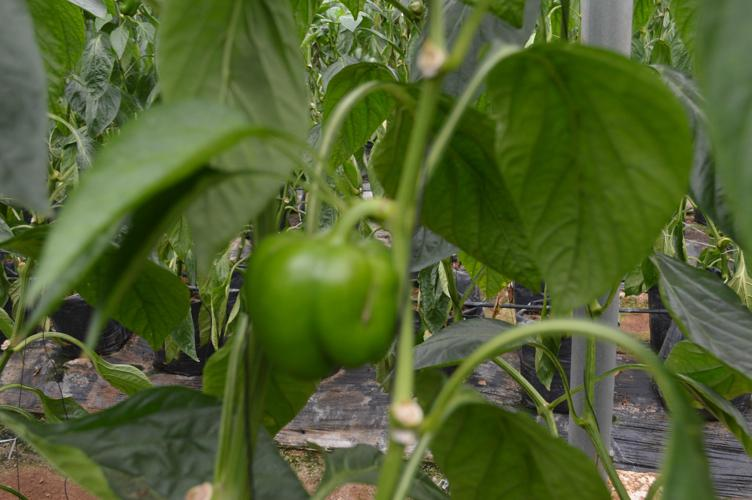BellPepper: (238, 228, 401, 388)
